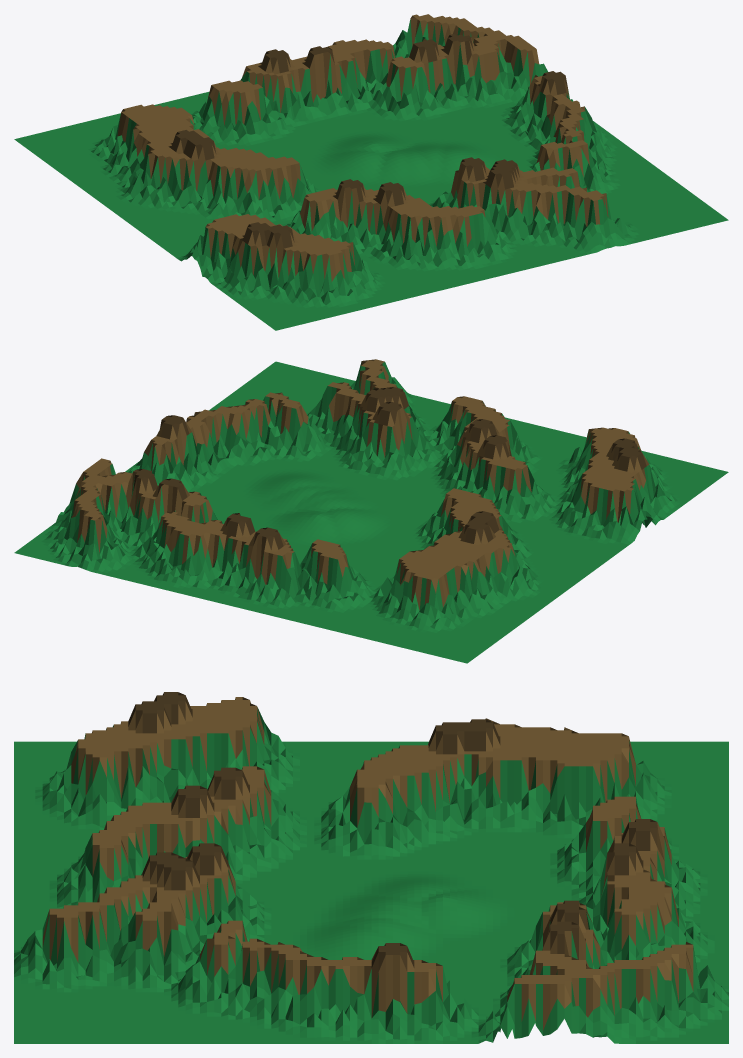
File: LowPolyTerrain.fbx
3 views of the same model, one above another, from view 1: azimuth 30°, elevation 25°; view 2: azimuth 150°, elevation 25°; view 3: azimuth 270°, elevation 25° (orthographic). The views are drawn at different scales.
Visible parts, largest first — view 1: Grid; view 2: Grid; view 3: Grid.
Boxes of the visible parts, x1,y1,x2,y2 form: Grid: (14, 14, 728, 330); Grid: (14, 359, 728, 663); Grid: (14, 692, 728, 1043).
Bounding box in the file's own units: 10000 × 1091 × 10000.
